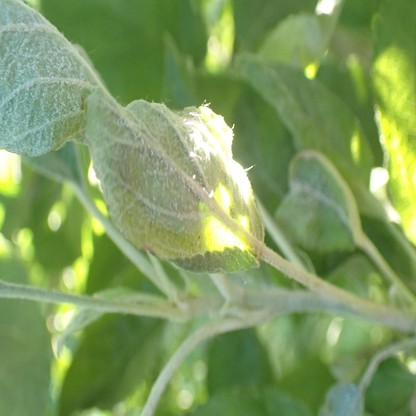powdery_mildew: (85, 94, 233, 232), (0, 1, 98, 156)
